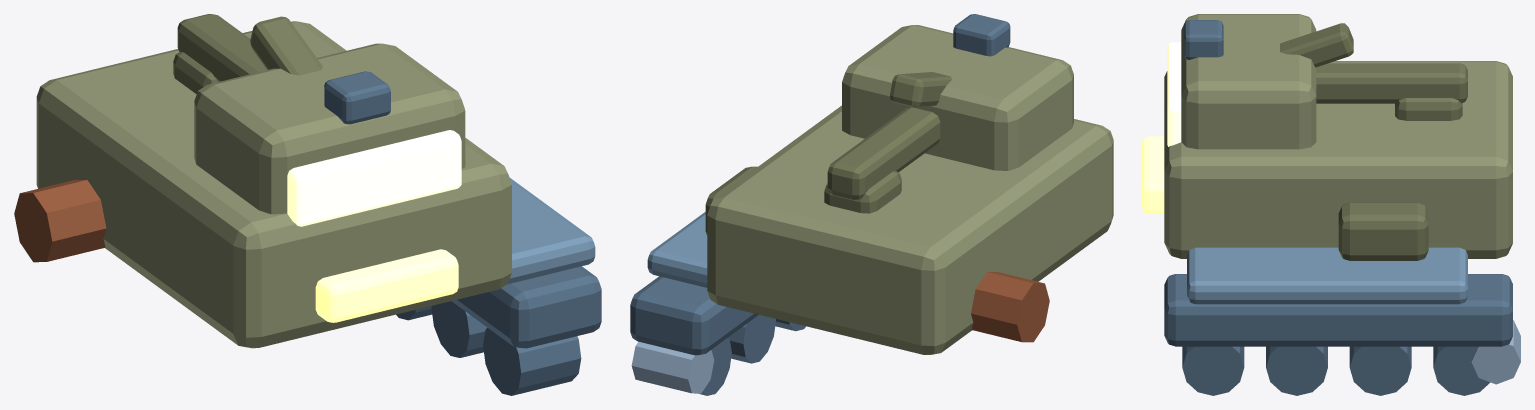
File: com_repair_vehicle.glb
The picture shows the model from 3 angles, left to right: view 1: azimuth 30°, elevation 25°; view 2: azimuth 150°, elevation 25°; view 3: azimuth 270°, elevation 25°; orthographic projection. The views are drawn at different scales.
Visible parts, largest first — view 1: com_repair_vehicle; view 2: com_repair_vehicle; view 3: com_repair_vehicle.
Boxes of the visible parts, x1,y1,x2,y2 form: com_repair_vehicle: (14,14,601,395); com_repair_vehicle: (630,14,1113,395); com_repair_vehicle: (1142,14,1520,395).
Size of the model in its own units: 0.705 by 0.56 by 0.674.
